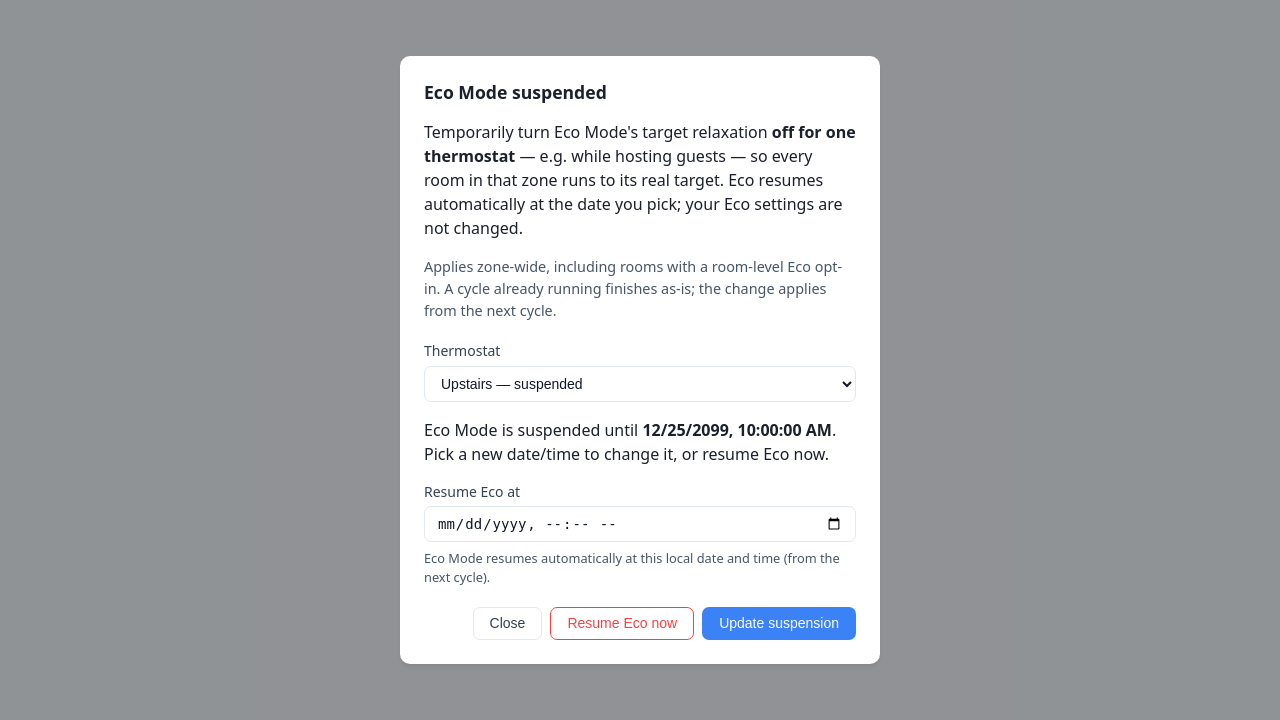
Test: EcoSuspendModal — fallbacks and non-Error failures › falls back to generic copy when resume-now rejects with a non-Error
Click the button "Resume Eco now" at (622, 623), box [550,607,694,640]
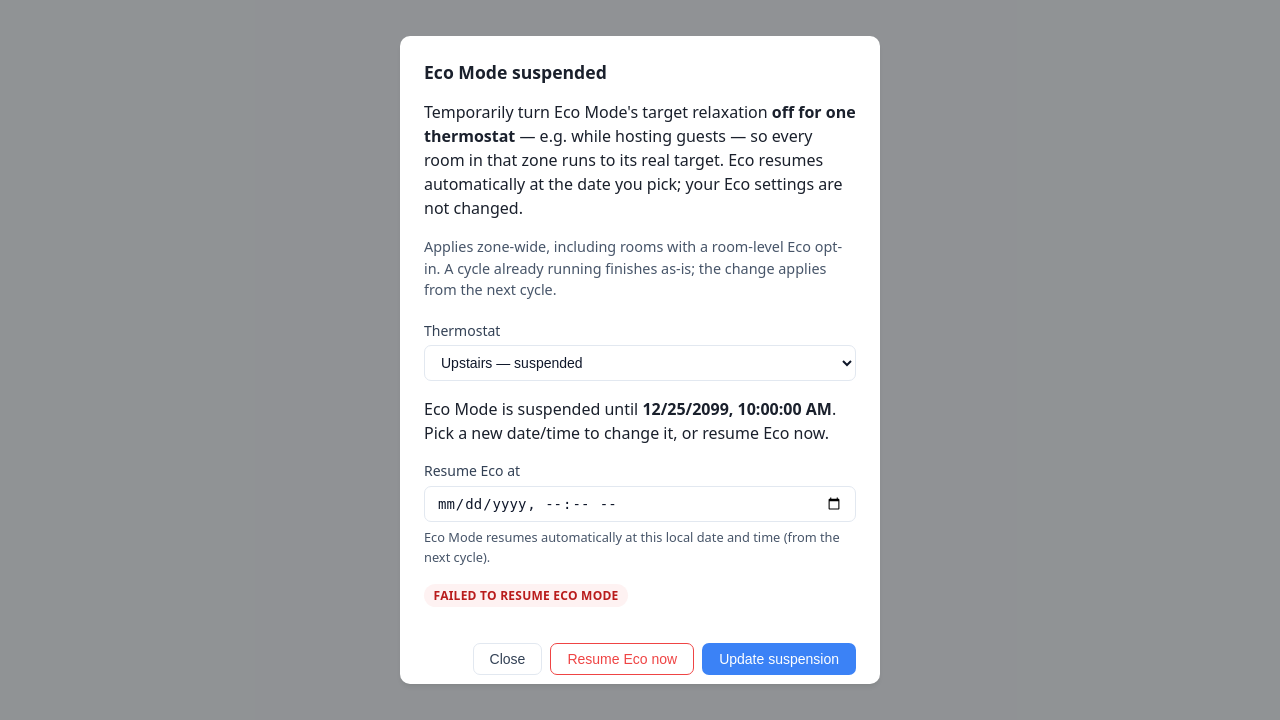
Expected: the text "Failed to resume Eco Mode" is shown, [424,584,628,607]
